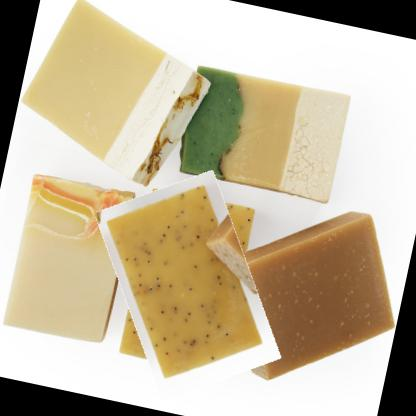soap: (82, 161, 293, 410)
